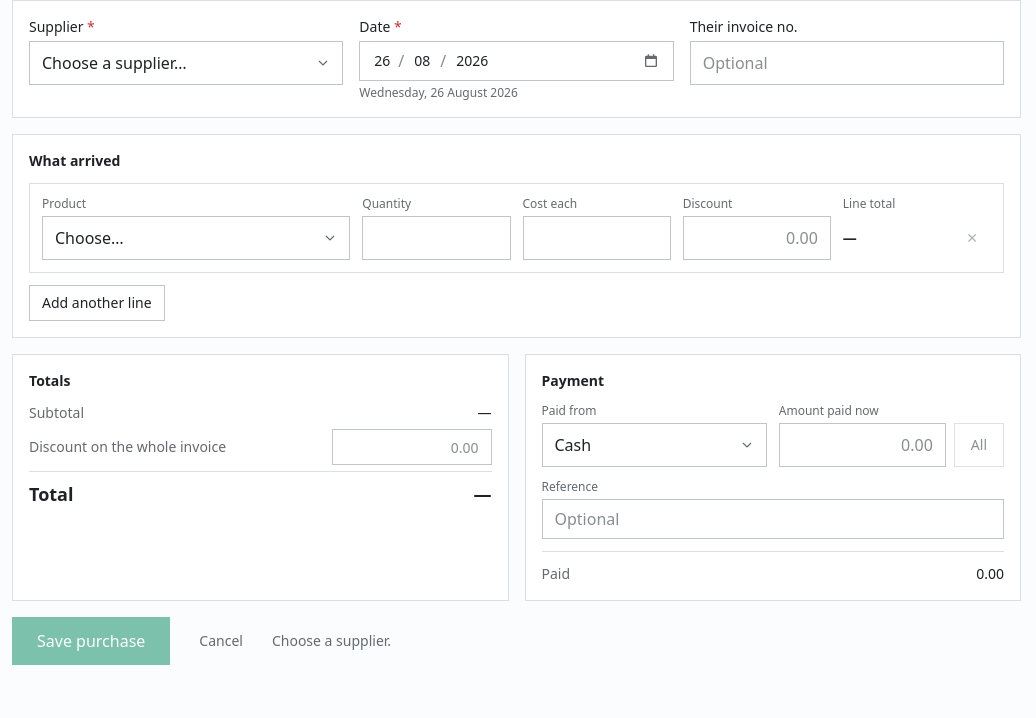
Scenario: the expiry date on a delivery line › can be taken away again
Select "Evaporated Milk" in the dropdown labelled "Product" at (196, 238), box [42, 216, 350, 260]
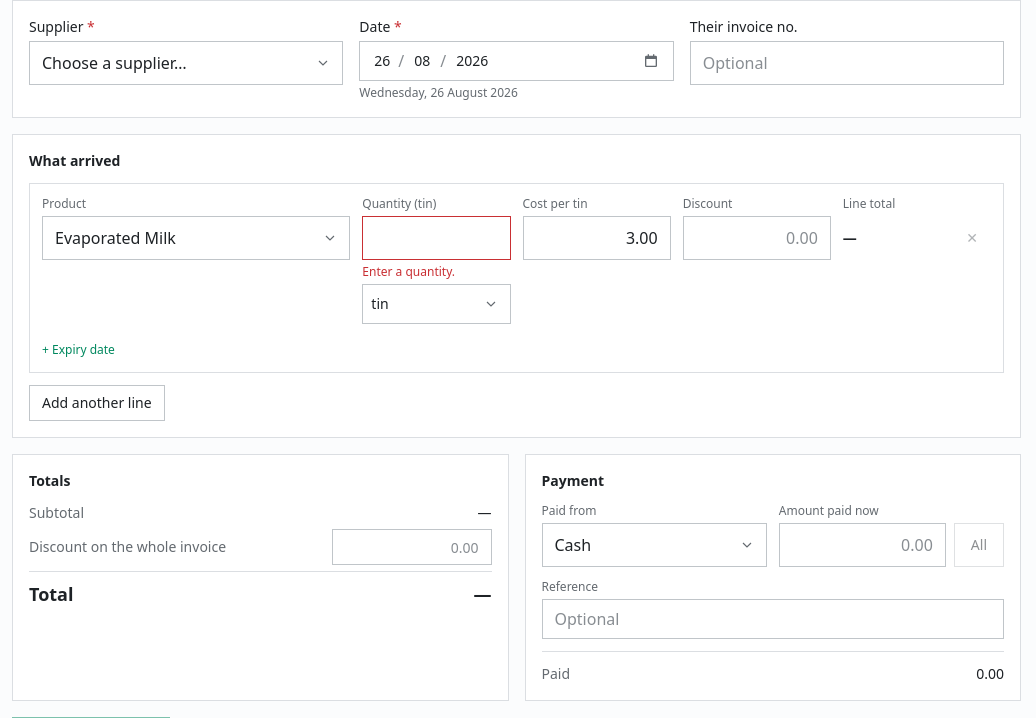
Click the button "+ Expiry date" at (78, 350), box [42, 342, 115, 358]
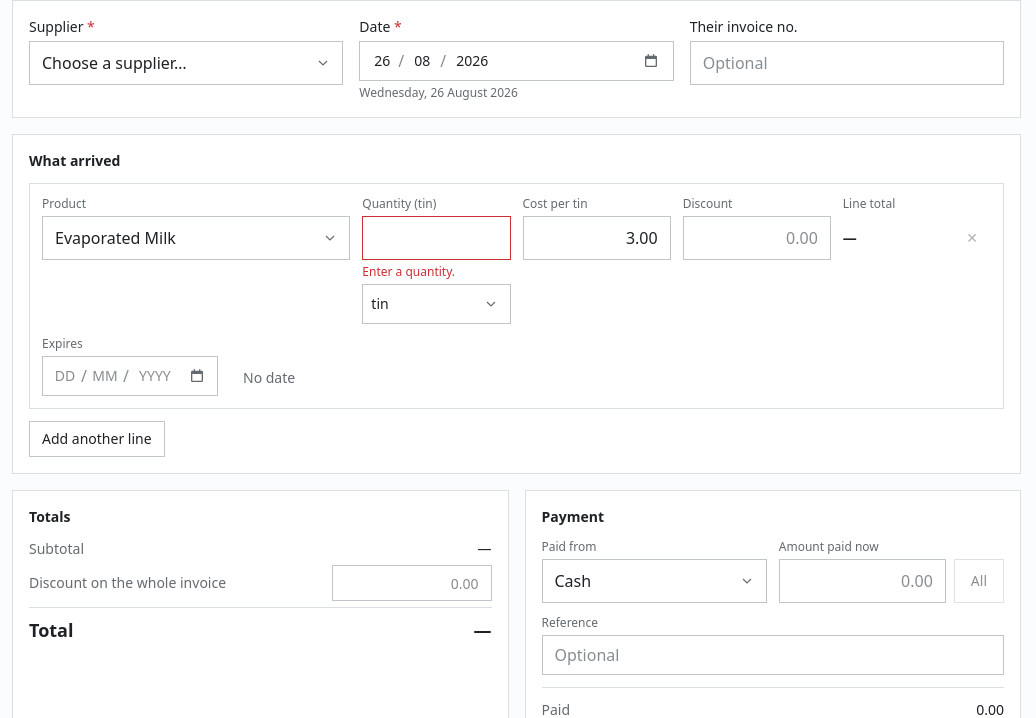
Type "01" into the field named "Expires day" at (65, 376), box [51, 366, 79, 386]
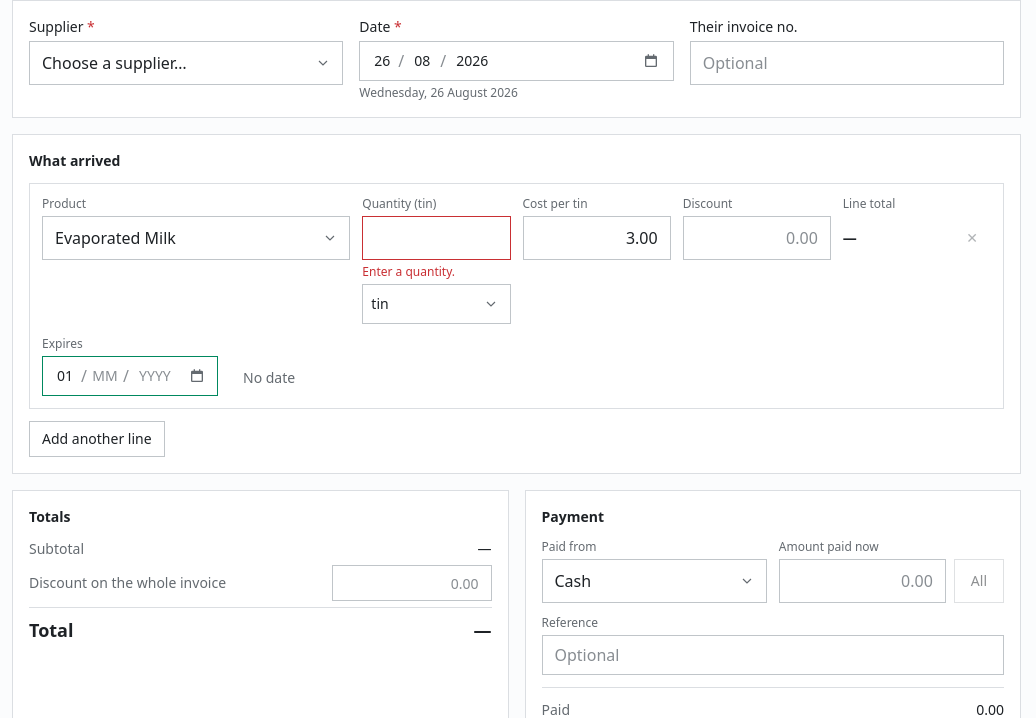
Type "01" into the field with placeholder "MM" at (105, 376), box [89, 366, 121, 386]
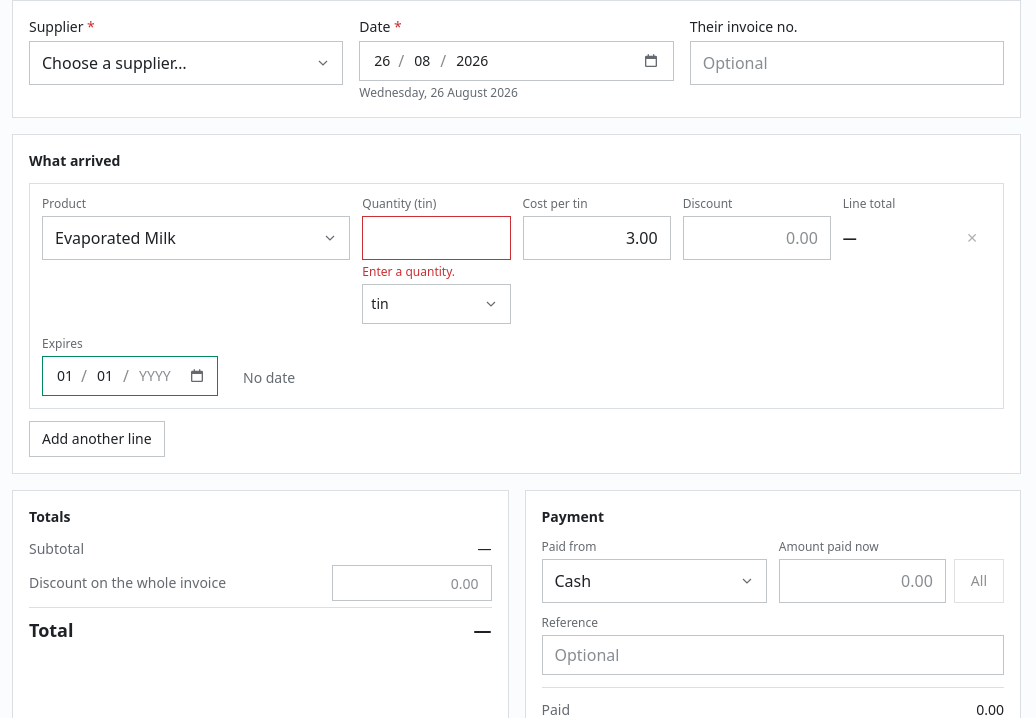
Type "2025" into the field with placeholder "YYYY" at (155, 376), box [131, 366, 179, 386]
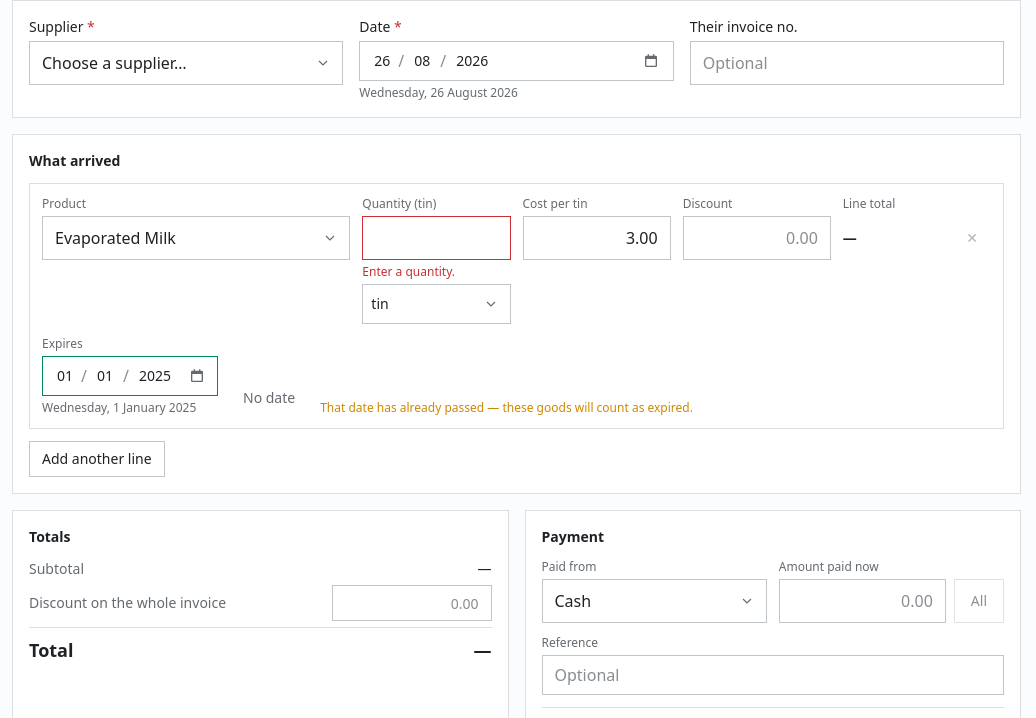
Result: the text "already passed" is shown at [320, 399, 693, 416]
Click the button "No date" at (269, 398), box [230, 380, 308, 416]
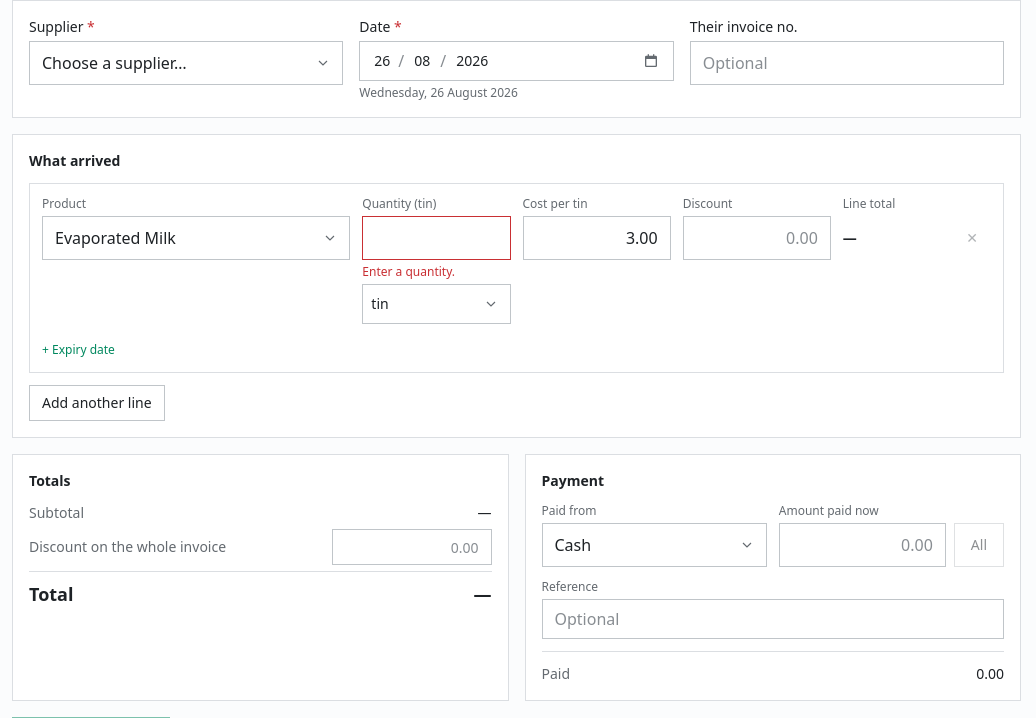
Result: the label labelled "Expires" is gone
Result: the text "already passed" is gone
